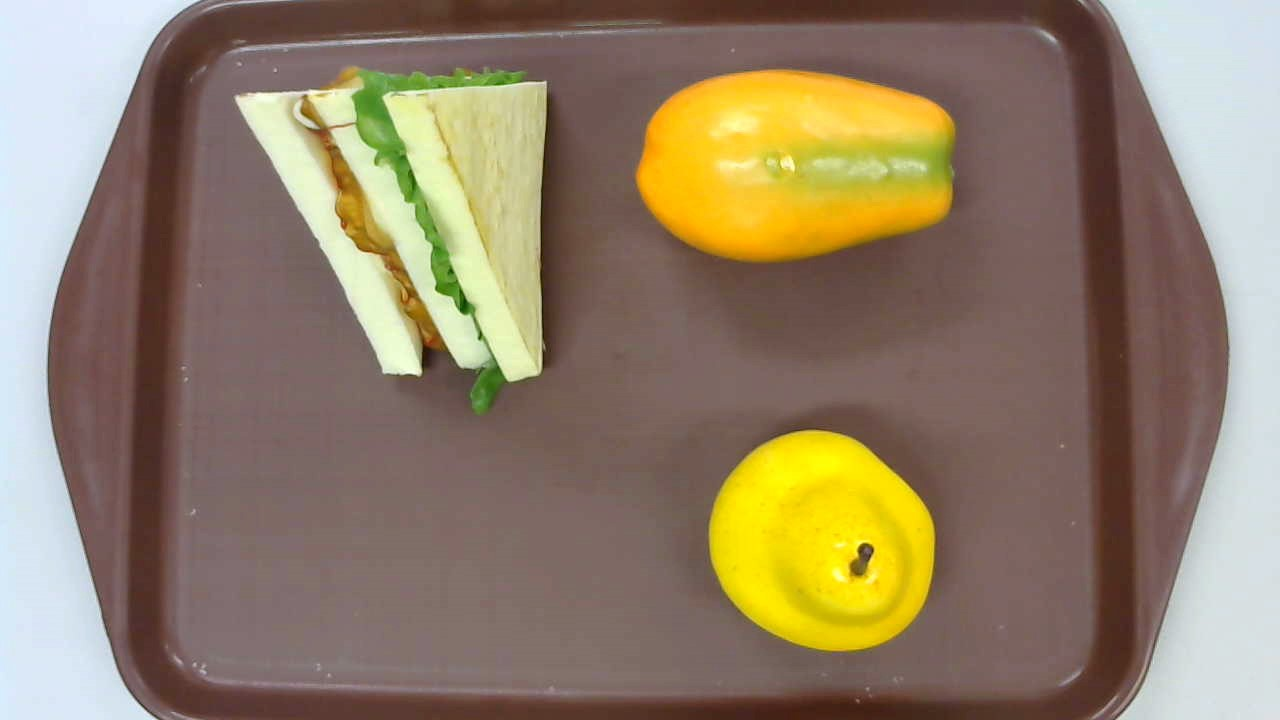papya: (635, 68, 958, 270)
sandwich: (233, 66, 549, 416)
yellow pear: (708, 428, 935, 652)
